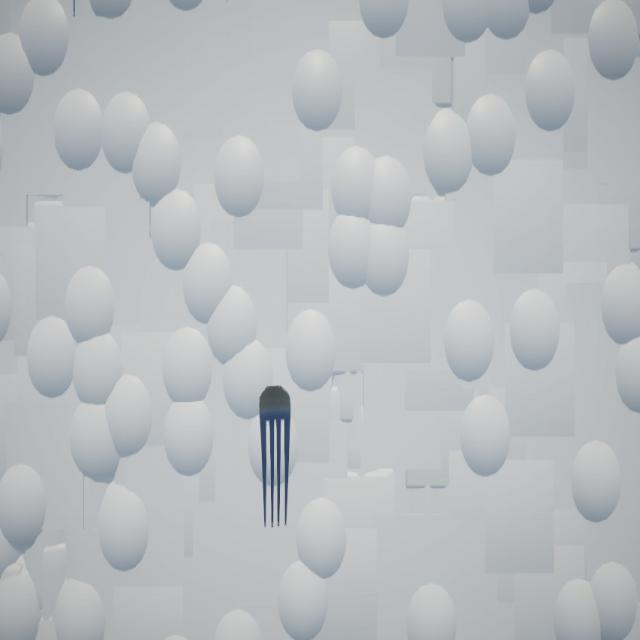top_folk: (260, 386, 292, 528)
